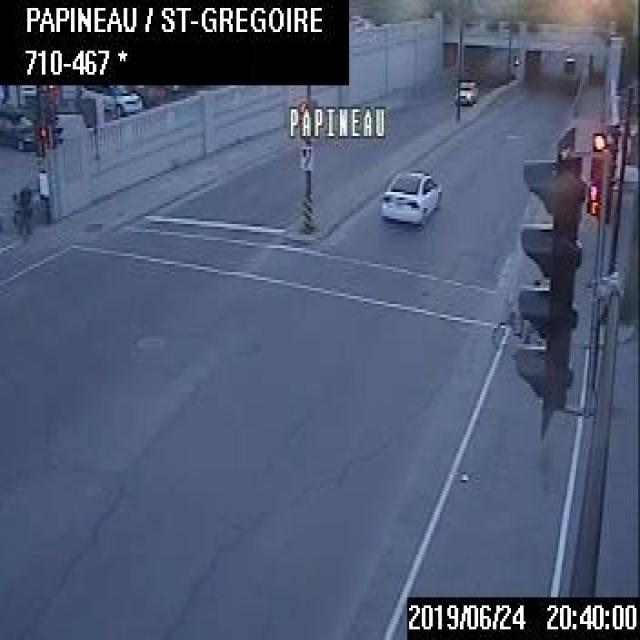cyclist: (13, 184, 31, 242)
vehicle: (376, 168, 442, 224), (79, 81, 142, 113), (0, 111, 36, 149), (453, 80, 478, 101)
